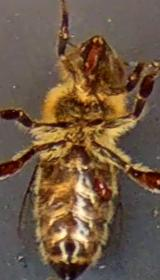varroa_mite: (89, 176, 112, 201)
